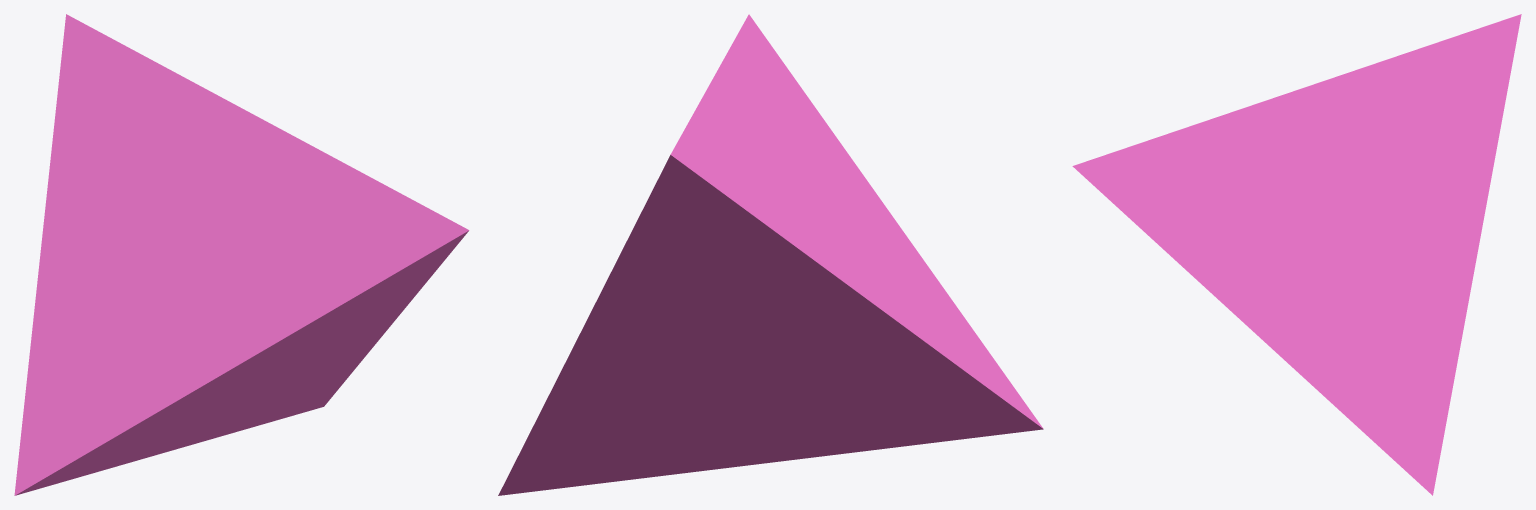
Rendered from InfoObras_30000.gltf.
3 renders of one model, left to right at view 1: azimuth 30°, elevation 25°; view 2: azimuth 150°, elevation 25°; view 3: azimuth 270°, elevation 25°, orthographic. The views are drawn at different scales.
Parts seen in each view (by area): view 1: InfoObras_30000; view 2: InfoObras_30000; view 3: InfoObras_30000.
Part boxes in pixels (left/top/right/bottom): InfoObras_30000: left=14, top=14, right=469, bottom=495; InfoObras_30000: left=498, top=14, right=1043, bottom=495; InfoObras_30000: left=1072, top=14, right=1521, bottom=495.
Size of the model in its own units: 0.364 by 0.3444 by 0.364.
